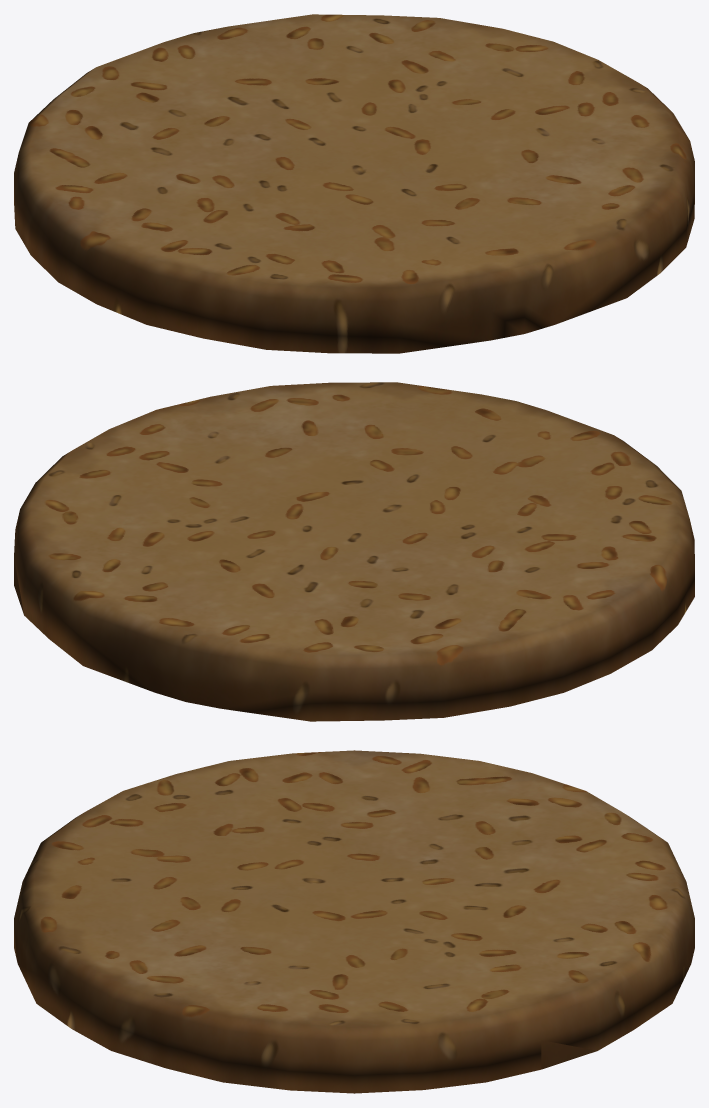
Rendered from GalletaDos.obj.
3 renders of one model, top to bottom at view 1: azimuth 30°, elevation 25°; view 2: azimuth 150°, elevation 25°; view 3: azimuth 270°, elevation 25°, orthographic.
Visible parts, largest first — view 1: polySurface13 TapaTarro:polySurface4; view 2: polySurface13 TapaTarro:polySurface4; view 3: polySurface13 TapaTarro:polySurface4.
Part boxes in pixels (x1,y1,x2,y2): polySurface13 TapaTarro:polySurface4: [14, 14, 694, 353]; polySurface13 TapaTarro:polySurface4: [14, 382, 694, 721]; polySurface13 TapaTarro:polySurface4: [14, 750, 694, 1093].
Size of the model in its own units: 0.2226 by 0.0211 by 0.2202.
1 material, 1 textured.
